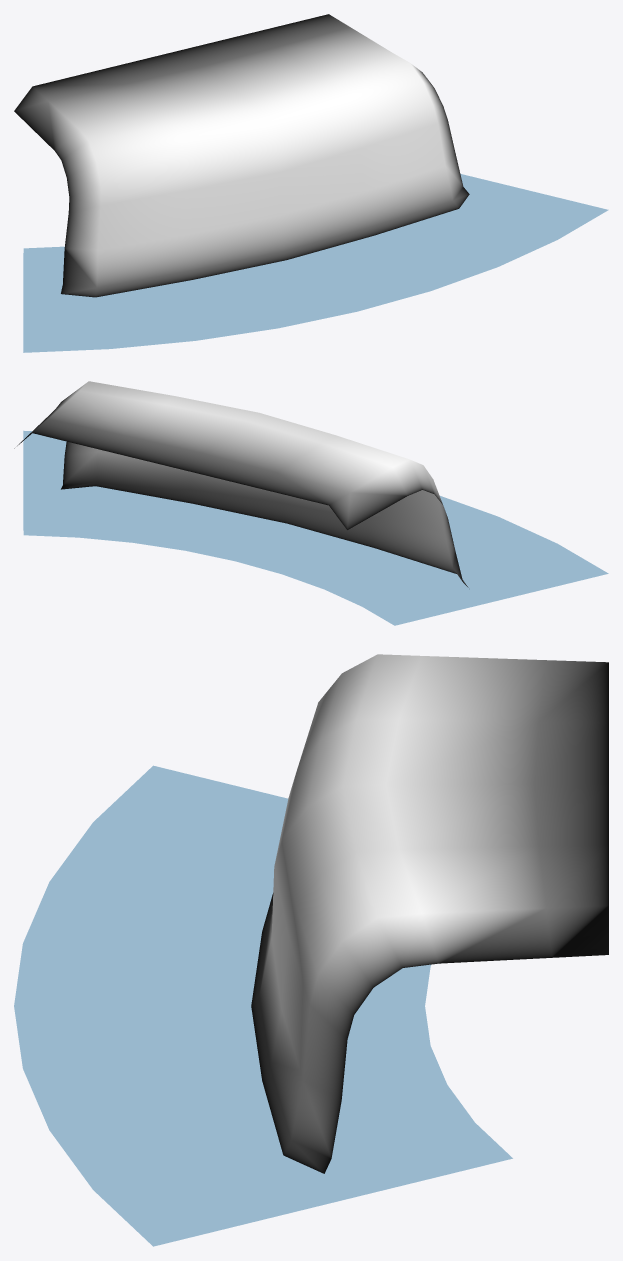
File: SM_Waterfall2.fbx
3 views of the same model, one above another, from view 1: azimuth 30°, elevation 25°; view 2: azimuth 150°, elevation 25°; view 3: azimuth 270°, elevation 25° (orthographic). The views are drawn at different scales.
Parts seen in each view (by area): view 1: SM_Waterfall2; view 2: SM_Waterfall2; view 3: SM_Waterfall2.
Boxes of the visible parts, x1,y1,x2,y2 form: SM_Waterfall2: (14, 14, 608, 352); SM_Waterfall2: (14, 381, 608, 625); SM_Waterfall2: (14, 654, 608, 1246).
Bounding box in the file's own units: 1763 × 380 × 921.
